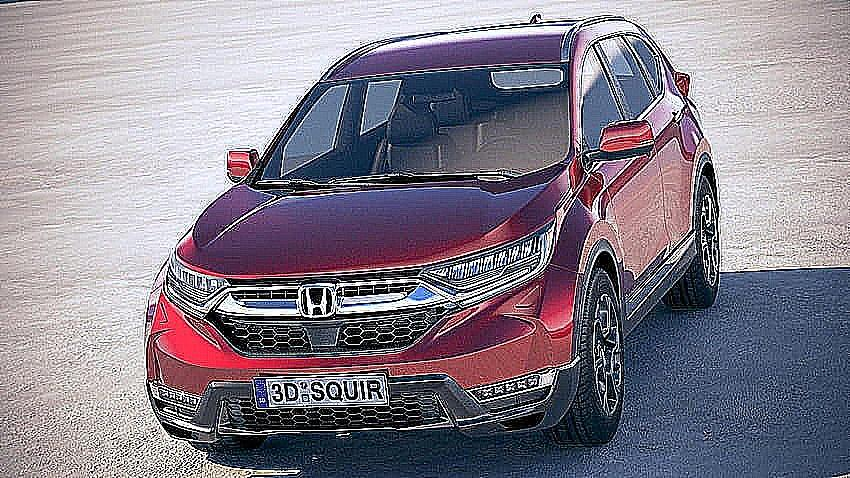Car hood: (167, 167, 574, 282)
Fender - -F-L-: (544, 153, 627, 312)
Front bumper: (140, 274, 594, 453)
Headlight - -L-: (414, 212, 564, 312)
Headlight - -R-: (159, 245, 237, 316)
Passenger-s door - -F-L-: (584, 20, 664, 307)
Passenger-s door - -R-L-: (617, 20, 692, 298)
Rear bumper: (669, 66, 694, 103)
Side bumper - -L-: (611, 225, 703, 345)
Side mirror - -L-: (581, 115, 658, 165)
Side mirror - -R-: (217, 143, 263, 187)
